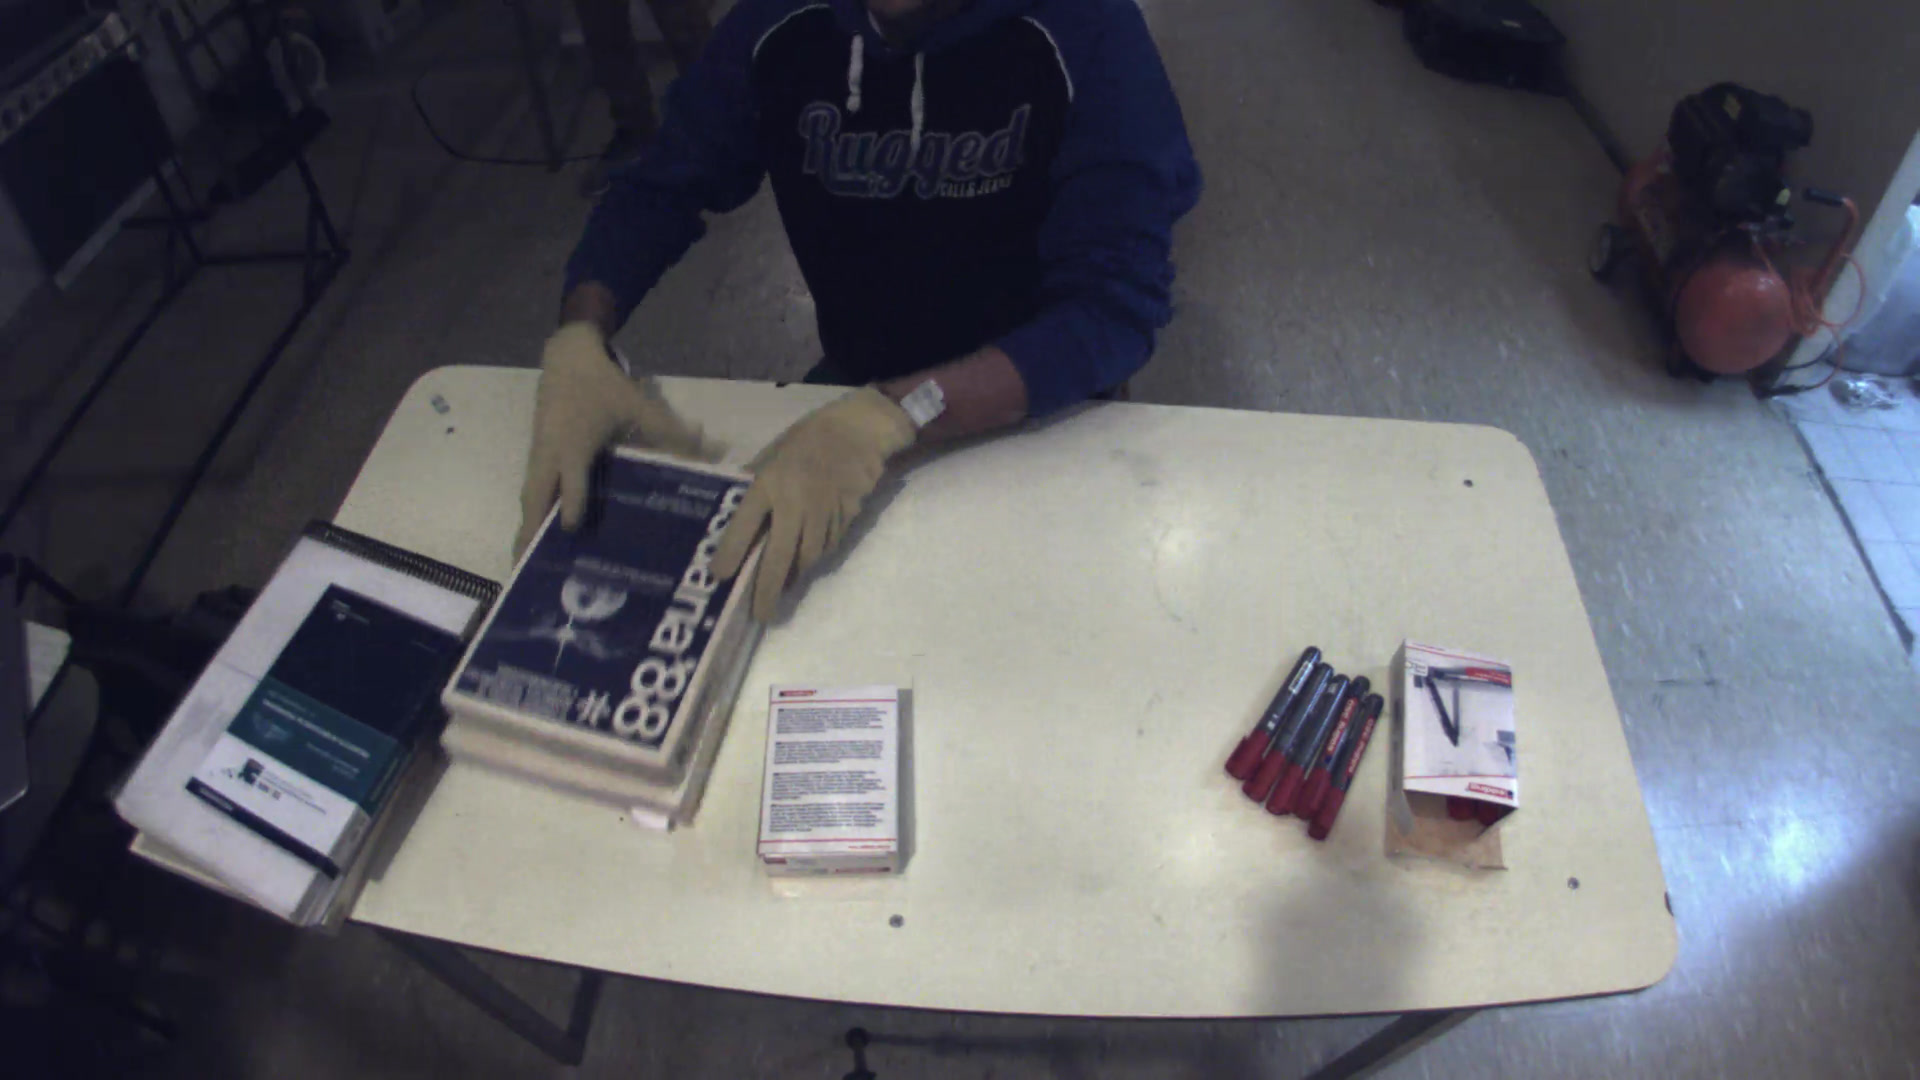hand: (500, 313, 705, 535), (720, 372, 919, 596)
